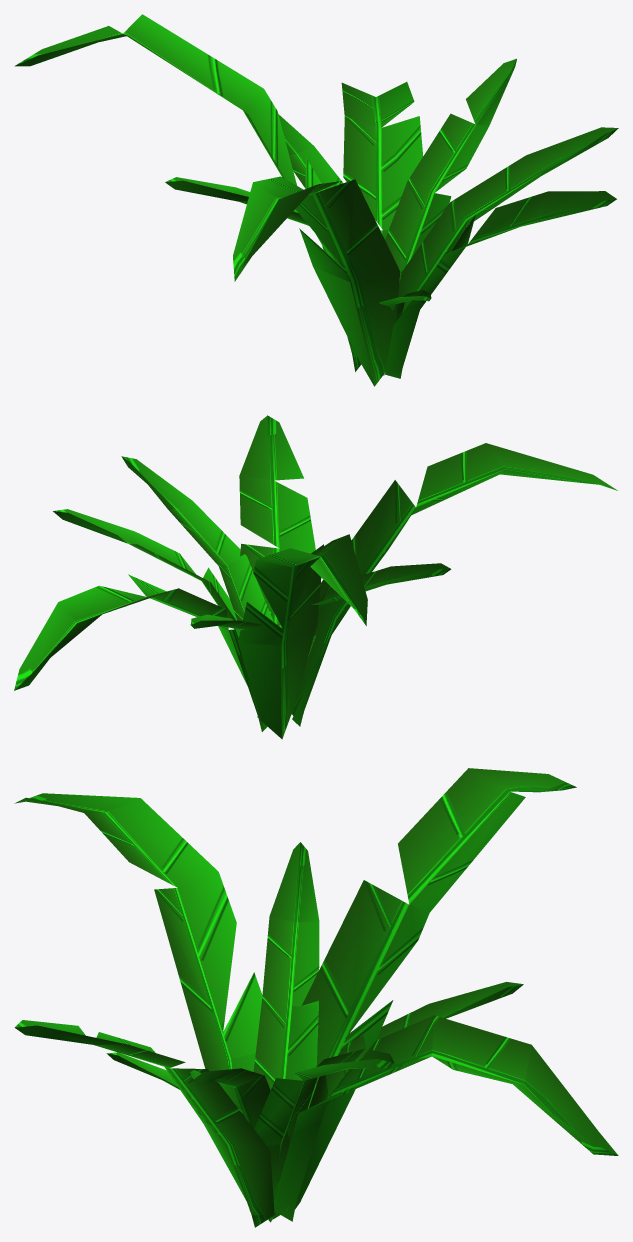
The model's file is plant1.fbx.
3 renders of one model, top to bottom at view 1: azimuth 30°, elevation 25°; view 2: azimuth 150°, elevation 25°; view 3: azimuth 270°, elevation 25°, orthographic. The views are drawn at different scales.
Parts seen in each view (by area): view 1: Default_Layer; view 2: Default_Layer; view 3: Default_Layer.
Boxes of the visible parts, x1=… form: Default_Layer: x1=14, y1=14, x2=618, y2=386; Default_Layer: x1=14, y1=415, x2=617, y2=739; Default_Layer: x1=14, y1=768, x2=618, y2=1227.
Size of the model in its own units: 320 by 210 by 319.
